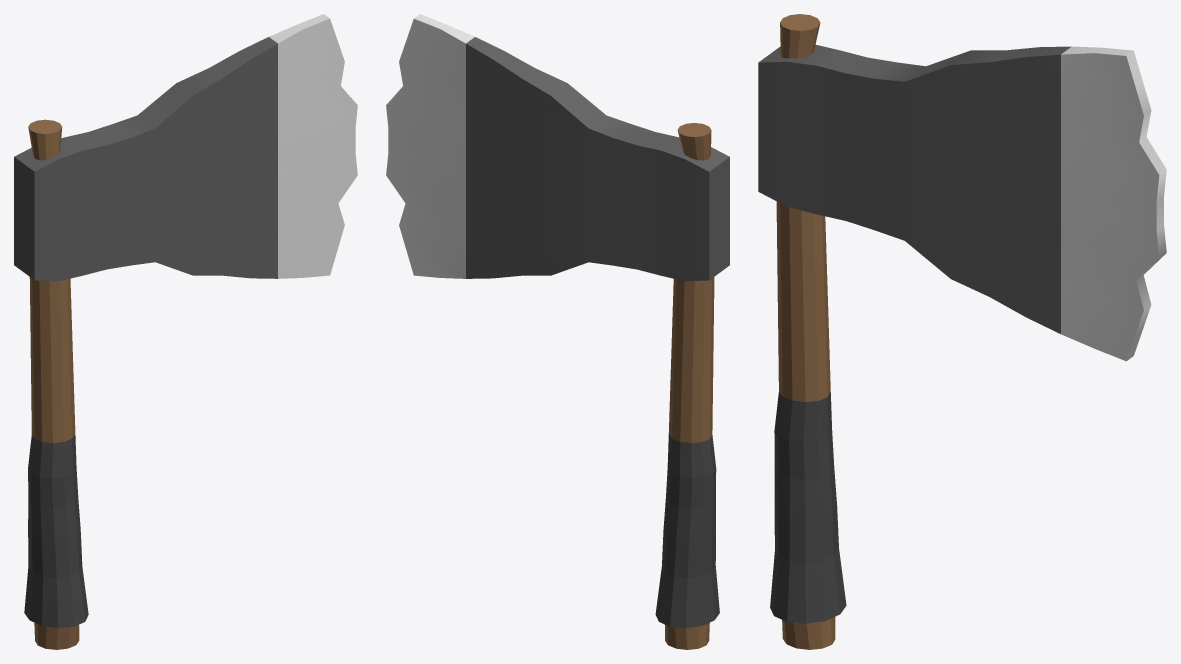
Rendered from balta.fbx.
3 renders of one model, left to right at view 1: azimuth 30°, elevation 25°; view 2: azimuth 150°, elevation 25°; view 3: azimuth 330°, elevation 25°, orthographic. The views are drawn at different scales.
Visible parts, largest first — view 1: pCube1, pCylinder1; view 2: pCube1, pCylinder1; view 3: pCube1, pCylinder1.
Part boxes in pixels (x1,y1,x2,y2): pCube1: [14, 14, 357, 281]; pCylinder1: [24, 119, 88, 649]; pCube1: [386, 14, 729, 281]; pCylinder1: [655, 123, 719, 649]; pCube1: [758, 44, 1166, 361]; pCylinder1: [770, 14, 846, 649].
Size of the model in its own units: 8.02 by 12.97 by 1.5.
